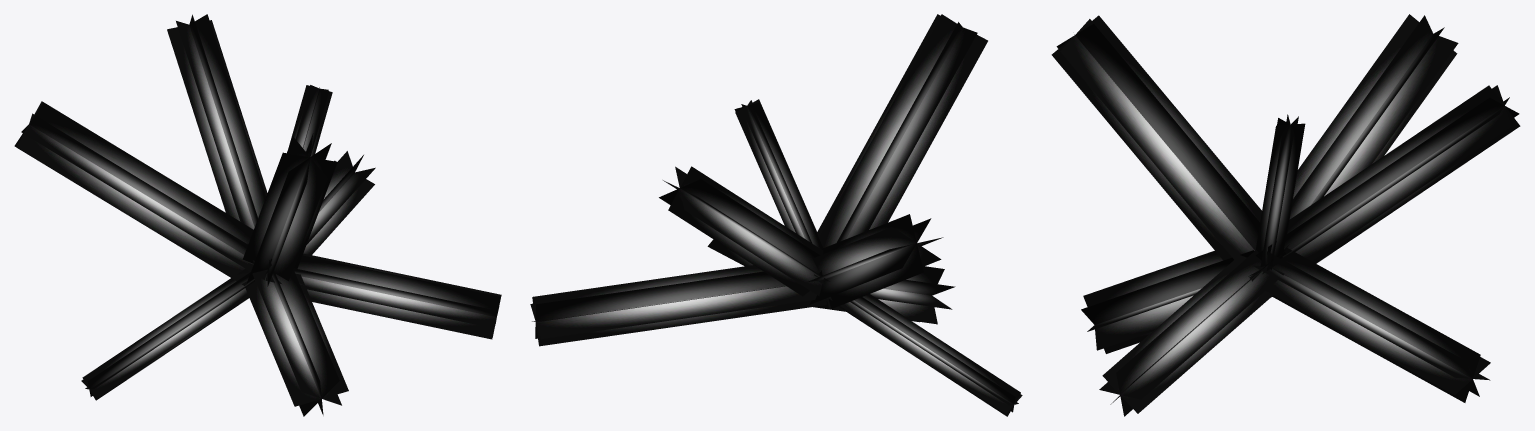
File: vfx_kurp_0407.dae
The picture shows the model from 3 angles, left to right: view 1: azimuth 30°, elevation 25°; view 2: azimuth 150°, elevation 25°; view 3: azimuth 270°, elevation 25°; orthographic projection. The views are drawn at different scales.
Visible parts, largest first — view 1: vfx_kurp_0407; view 2: vfx_kurp_0407; view 3: vfx_kurp_0407.
Boxes of the visible parts, x1,y1,x2,y2 form: vfx_kurp_0407: (14,14,501,416); vfx_kurp_0407: (530,14,1022,416); vfx_kurp_0407: (1051,14,1520,416).
Bounding box in the file's own units: 12.01 × 11.73 × 8.89.
Materials: 1 (1 with a texture image).
